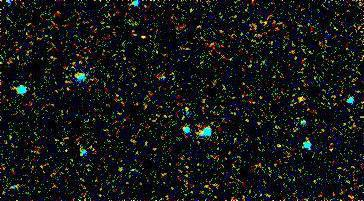star: (287, 86, 317, 116)
